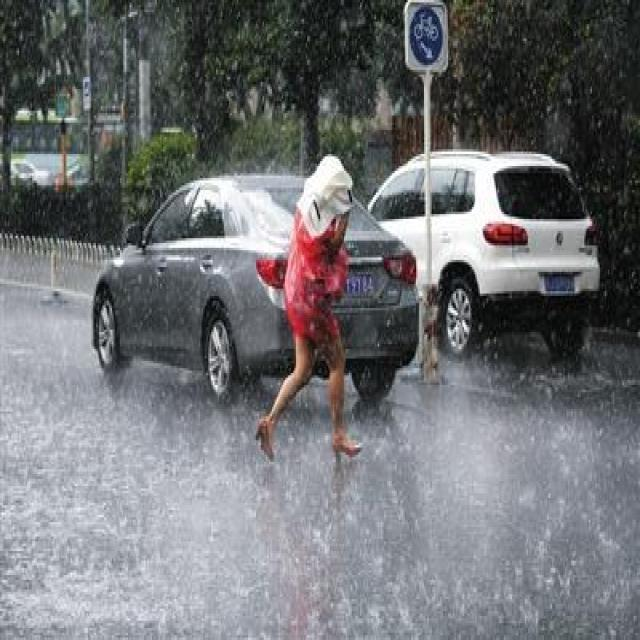car: (88, 170, 418, 394), (352, 144, 598, 358)
